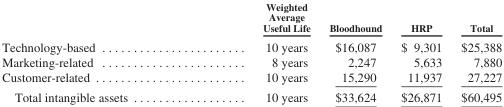table: (1, 0, 501, 103)
table column: (1, 0, 194, 103), (194, 0, 319, 103), (319, 0, 390, 103), (390, 0, 450, 103), (450, 0, 501, 103)
table column header: (1, 0, 501, 36)
table row: (1, 0, 501, 36), (1, 36, 501, 53), (1, 69, 501, 86), (1, 86, 501, 103), (1, 53, 501, 69)
